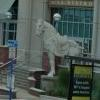Statue: (28, 12, 89, 75)
